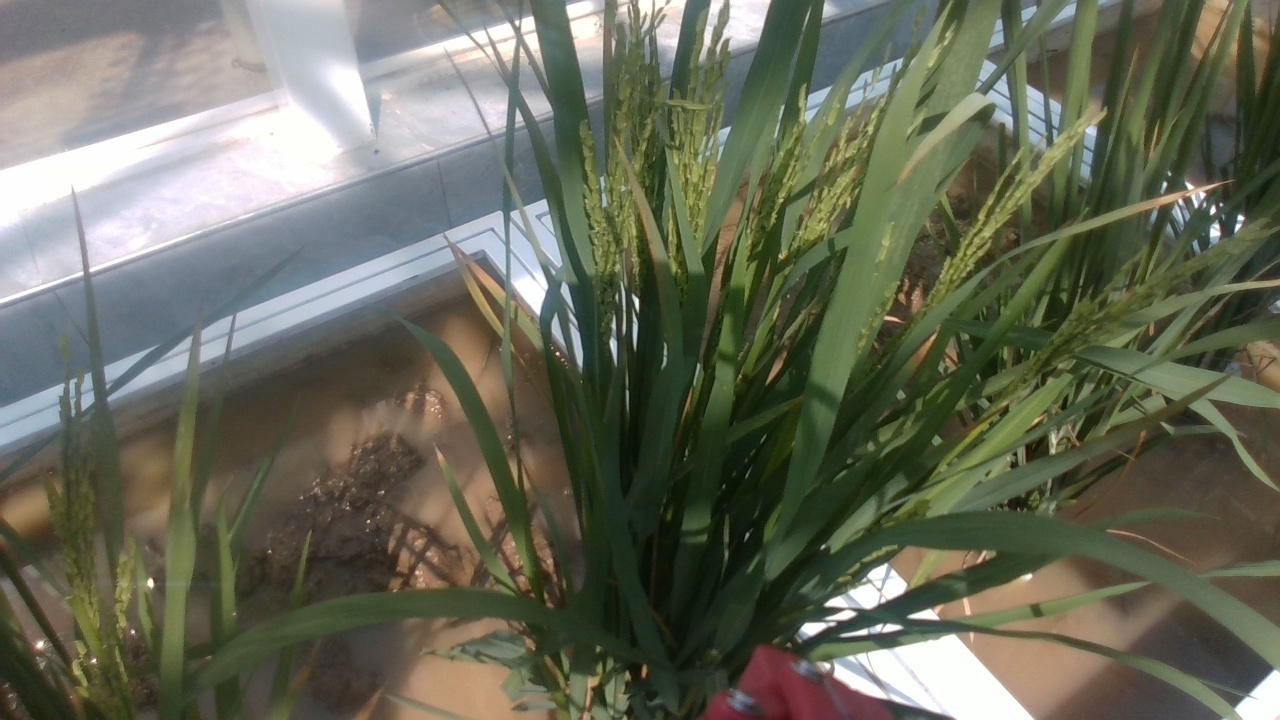panicle: (919, 109, 1107, 309), (660, 33, 740, 214), (806, 102, 891, 251), (576, 119, 638, 278), (615, 6, 663, 160), (753, 109, 823, 206)
